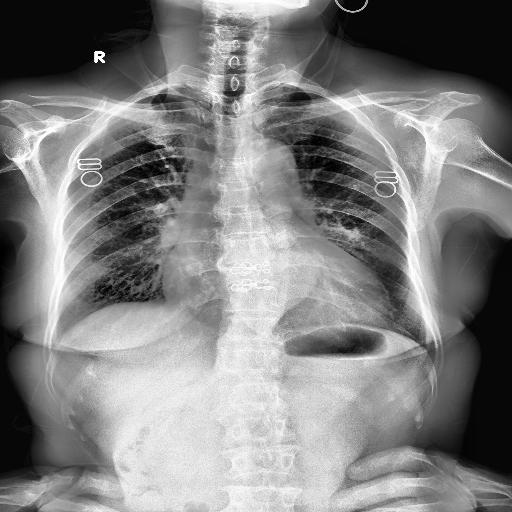0- Aortic enlargement: (238, 138, 300, 188), (256, 139, 300, 189), (248, 140, 296, 176)
3- Cardiomegaly: (164, 247, 390, 324), (158, 260, 394, 330), (162, 258, 391, 328)
